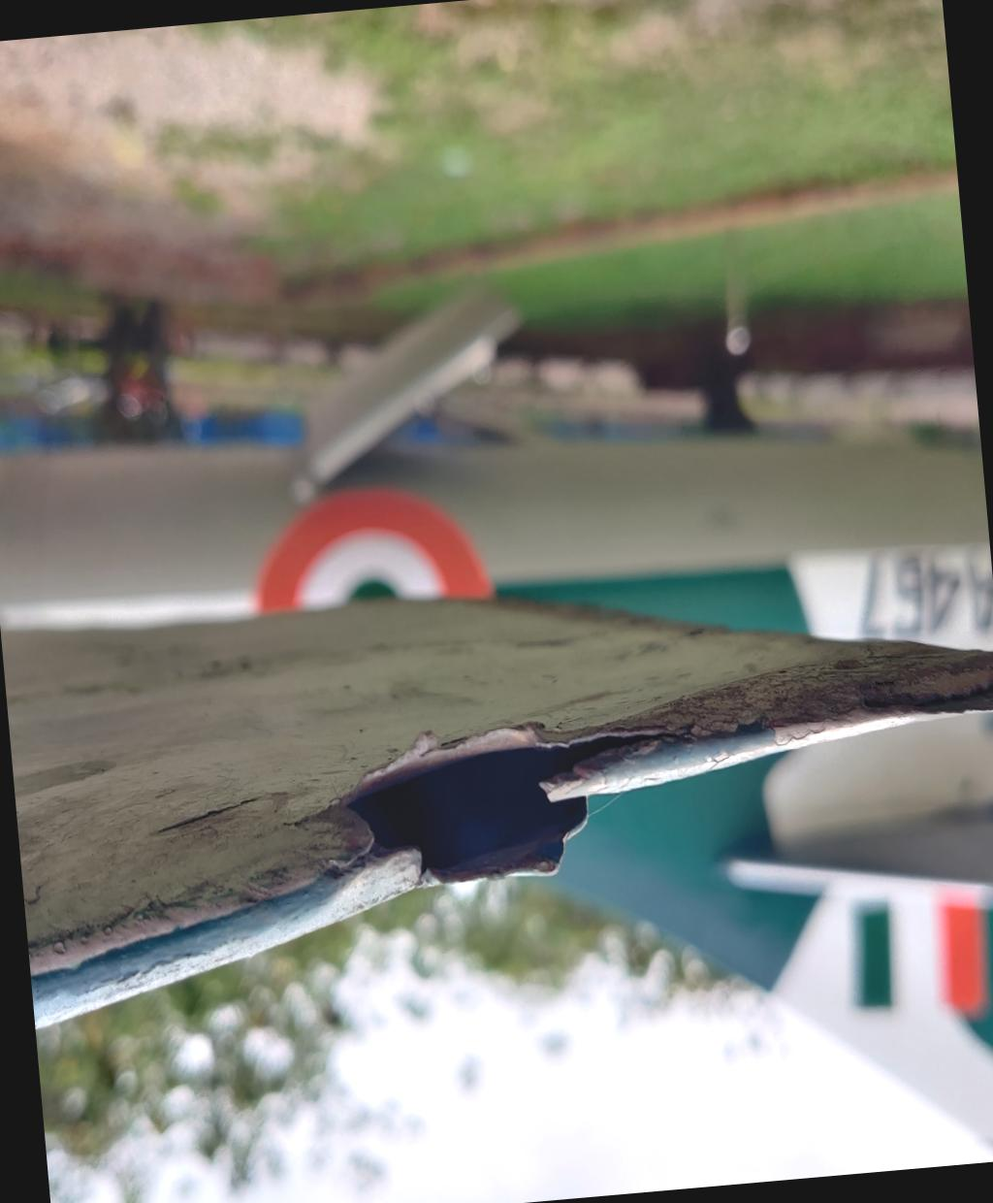crack: (261, 672, 727, 937)
